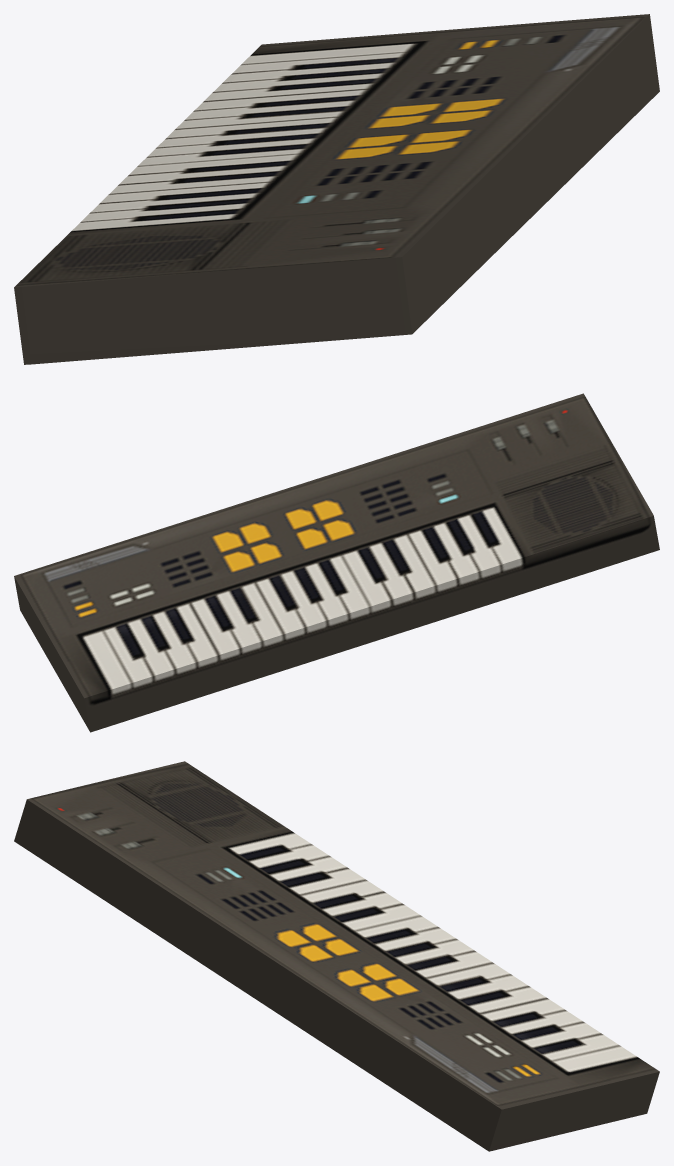
The model's file is AF_M_Prop_25.FBX.
The picture shows the model from 3 angles, top to bottom: view 1: azimuth 30°, elevation 25°; view 2: azimuth 150°, elevation 25°; view 3: azimuth 270°, elevation 25°; orthographic projection. The views are drawn at different scales.
Parts seen in each view (by area): view 1: AF_M_Prop_25; view 2: AF_M_Prop_25; view 3: AF_M_Prop_25.
Part boxes in pixels (x1=…): AF_M_Prop_25: x1=14, y1=14, x2=659, y2=364; AF_M_Prop_25: x1=14, y1=393, x2=659, y2=732; AF_M_Prop_25: x1=14, y1=761, x2=659, y2=1151.
Bounding box in the file's own units: 333 × 118 × 343.
Materials: 1 (1 with a texture image).
